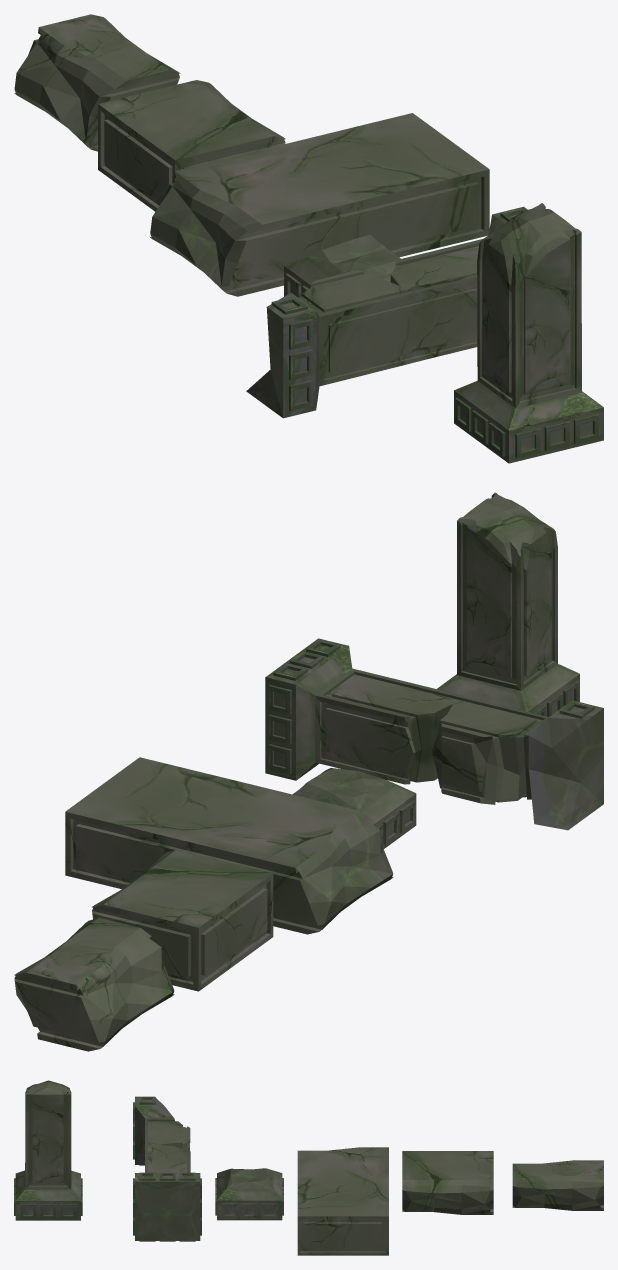
The model's file is ruins.fbx.
3 views of the same model, one above another, from view 1: azimuth 30°, elevation 25°; view 2: azimuth 150°, elevation 25°; view 3: azimuth 270°, elevation 25° (orthographic). The views are drawn at different scales.
Parts seen in each view (by area): view 1: pillar.001, pillar.005, pillar.004, pillar.003, pillar.007, pillar.006; view 2: pillar.004, pillar.001, pillar.005, pillar.003, pillar.007, pillar.006; view 3: pillar.001, pillar.004, pillar.005, pillar.003, pillar.007, pillar.006.
Boxes of the visible parts, box(x1,y1,x2,y2) form: pillar.001: box(150, 113, 489, 296); pillar.005: box(454, 203, 603, 463); pillar.004: box(246, 206, 527, 418); pillar.003: box(98, 80, 285, 211); pillar.007: box(14, 14, 180, 151); pillar.006: box(284, 234, 400, 297); pillar.004: box(265, 638, 603, 830); pillar.001: box(65, 757, 393, 934); pillar.005: box(437, 492, 579, 716); pillar.003: box(92, 850, 273, 991); pillar.007: box(14, 918, 174, 1051); pillar.006: box(293, 768, 416, 848); pillar.001: box(297, 1147, 388, 1255); pillar.004: box(133, 1096, 201, 1241); pillar.005: box(14, 1080, 82, 1220); pillar.003: box(402, 1151, 493, 1214); pillar.007: box(512, 1160, 603, 1210); pillar.006: box(215, 1168, 283, 1220).
Size of the model in its own units: 205 by 514 by 122.
